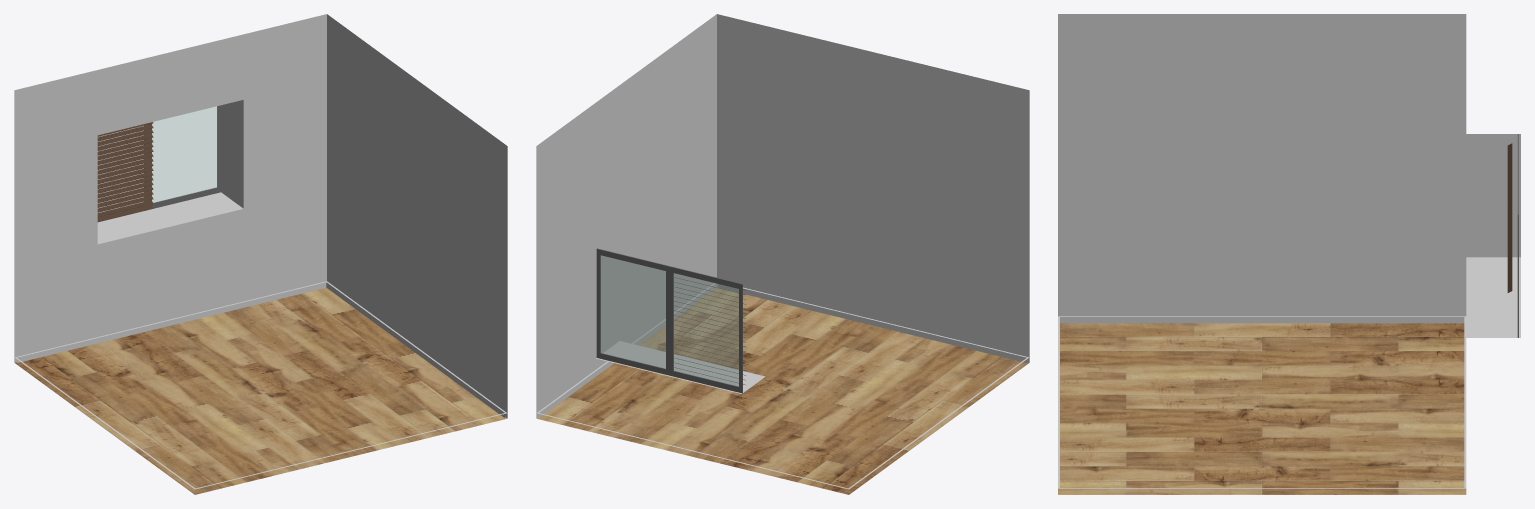
The picture shows the model from 3 angles, left to right: view 1: azimuth 30°, elevation 25°; view 2: azimuth 150°, elevation 25°; view 3: azimuth 270°, elevation 25°; orthographic projection. The views are drawn at different scales.
Parts seen in each view (by area): view 1: Wall, Floor, Window, Cube, Habaki; view 2: Wall, Floor, Window, Habaki, Cube; view 3: Wall, Floor, Habaki, Cube.
Boxes of the visible parts, <box> form: Wall: <box>14,14,507,418</box>; Floor: <box>15,287,506,494</box>; Window: <box>98,105,220,221</box>; Cube: <box>97,122,153,221</box>; Habaki: <box>15,281,506,489</box>; Wall: <box>536,14,1029,418</box>; Floor: <box>537,288,1028,494</box>; Window: <box>596,248,742,393</box>; Habaki: <box>537,283,1028,489</box>; Cube: <box>674,277,745,384</box>; Wall: <box>1058,14,1520,337</box>; Floor: <box>1058,323,1466,494</box>; Habaki: <box>1058,316,1466,488</box>; Cube: <box>1507,143,1512,292</box>.
Size of the model in its own units: 3 by 2.5 by 3.4.
Materials: 4 (1 with a texture image).
